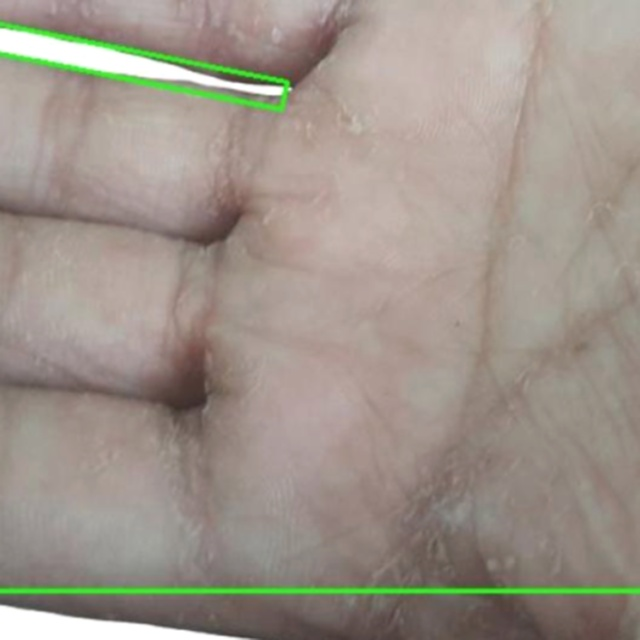Scabies: (0, 24, 286, 110)
